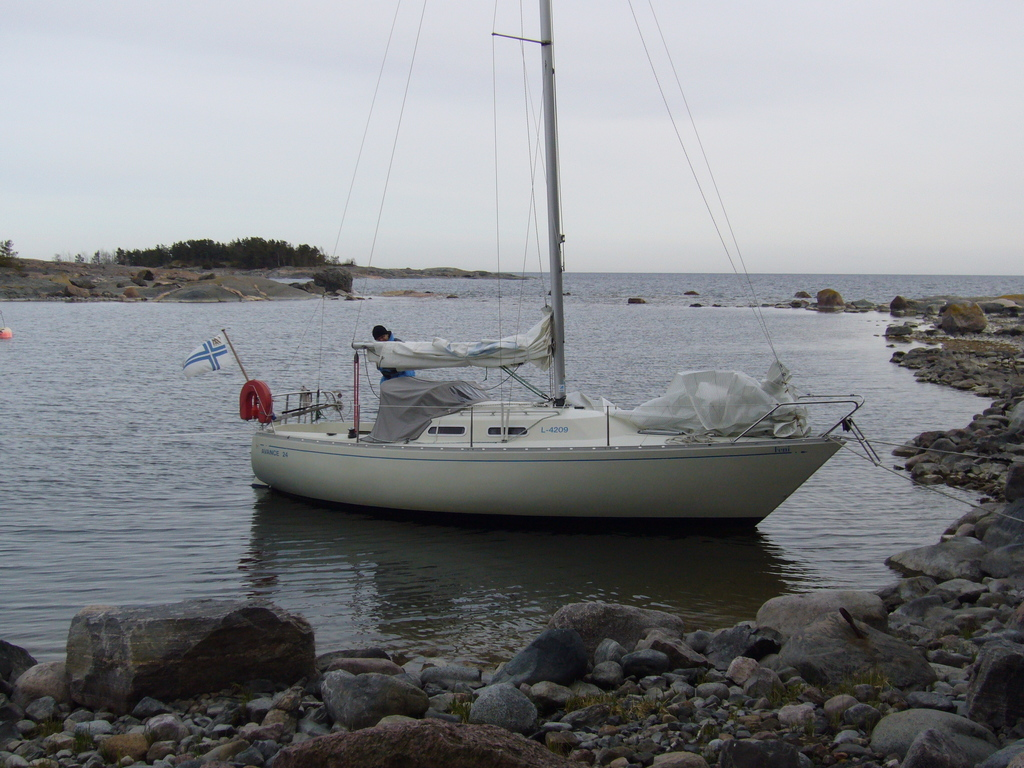boat: (193, 1, 878, 536)
